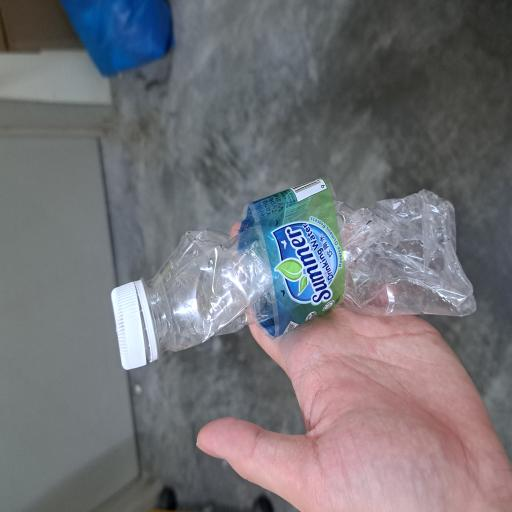plastic bag: (329, 77, 384, 229)
plastic bottle: (100, 201, 254, 512)
plastic bottle cap: (104, 148, 178, 205)
